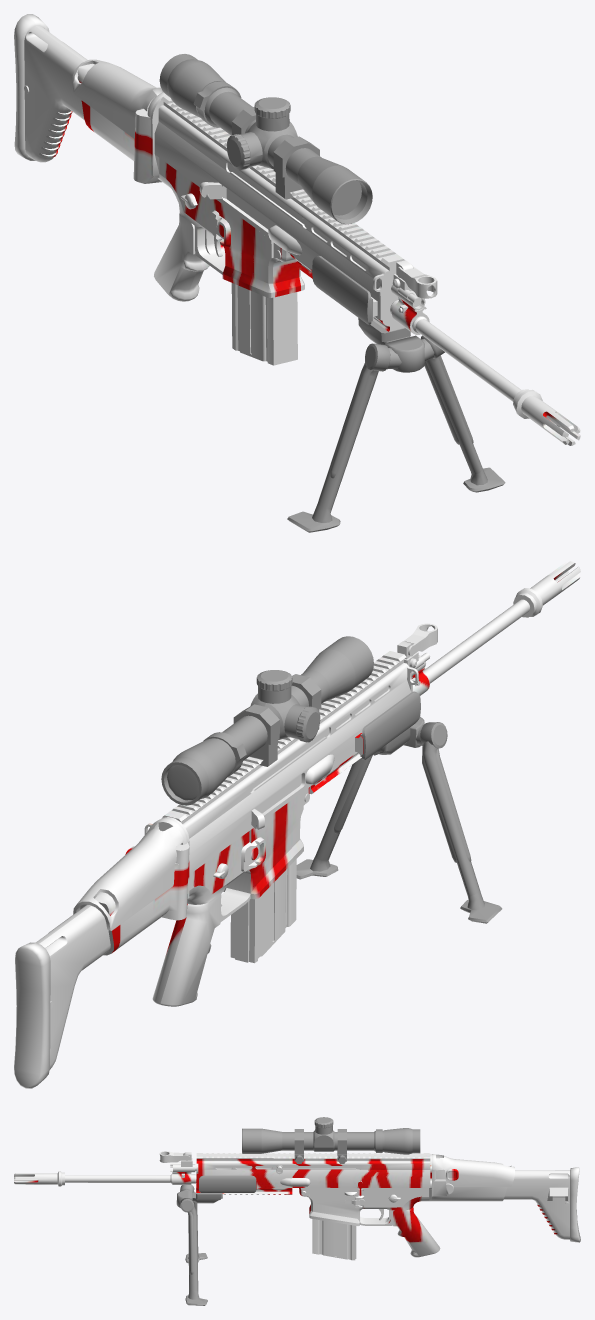
3 views of the same model, one above another, from view 1: azimuth 30°, elevation 25°; view 2: azimuth 150°, elevation 25°; view 3: azimuth 270°, elevation 25° (orthographic). The views are drawn at different scales.
Visible parts, largest first — view 1: MKS17_1, MKS17_4, MKS17_3, MKS17_2, MKS17_6; view 2: MKS17_1, MKS17_4, MKS17_3, MKS17_2, MKS17_6, MKS17_5; view 3: MKS17_1, MKS17_4, MKS17_3, MKS17_2, MKS17_6.
Boxes of the visible parts, x1,y1,x2,y2 form: MKS17_1: (14,14,429,334); MKS17_4: (159,54,372,224); MKS17_3: (287,255,505,532); MKS17_2: (180,182,580,445); MKS17_6: (231,283,297,365); MKS17_1: (14,651,429,1088); MKS17_4: (161,636,373,805); MKS17_3: (296,691,502,923); MKS17_2: (213,561,580,878); MKS17_6: (230,859,296,963); MKS17_5: (167,765,198,800); MKS17_1: (172,1153,580,1257); MKS17_4: (242,1117,420,1163); MKS17_3: (176,1175,256,1305); MKS17_2: (14,1151,400,1205); MKS17_6: (312,1219,356,1260).
Size of the model in its own units: 20.87 by 30.27 by 97.16.
